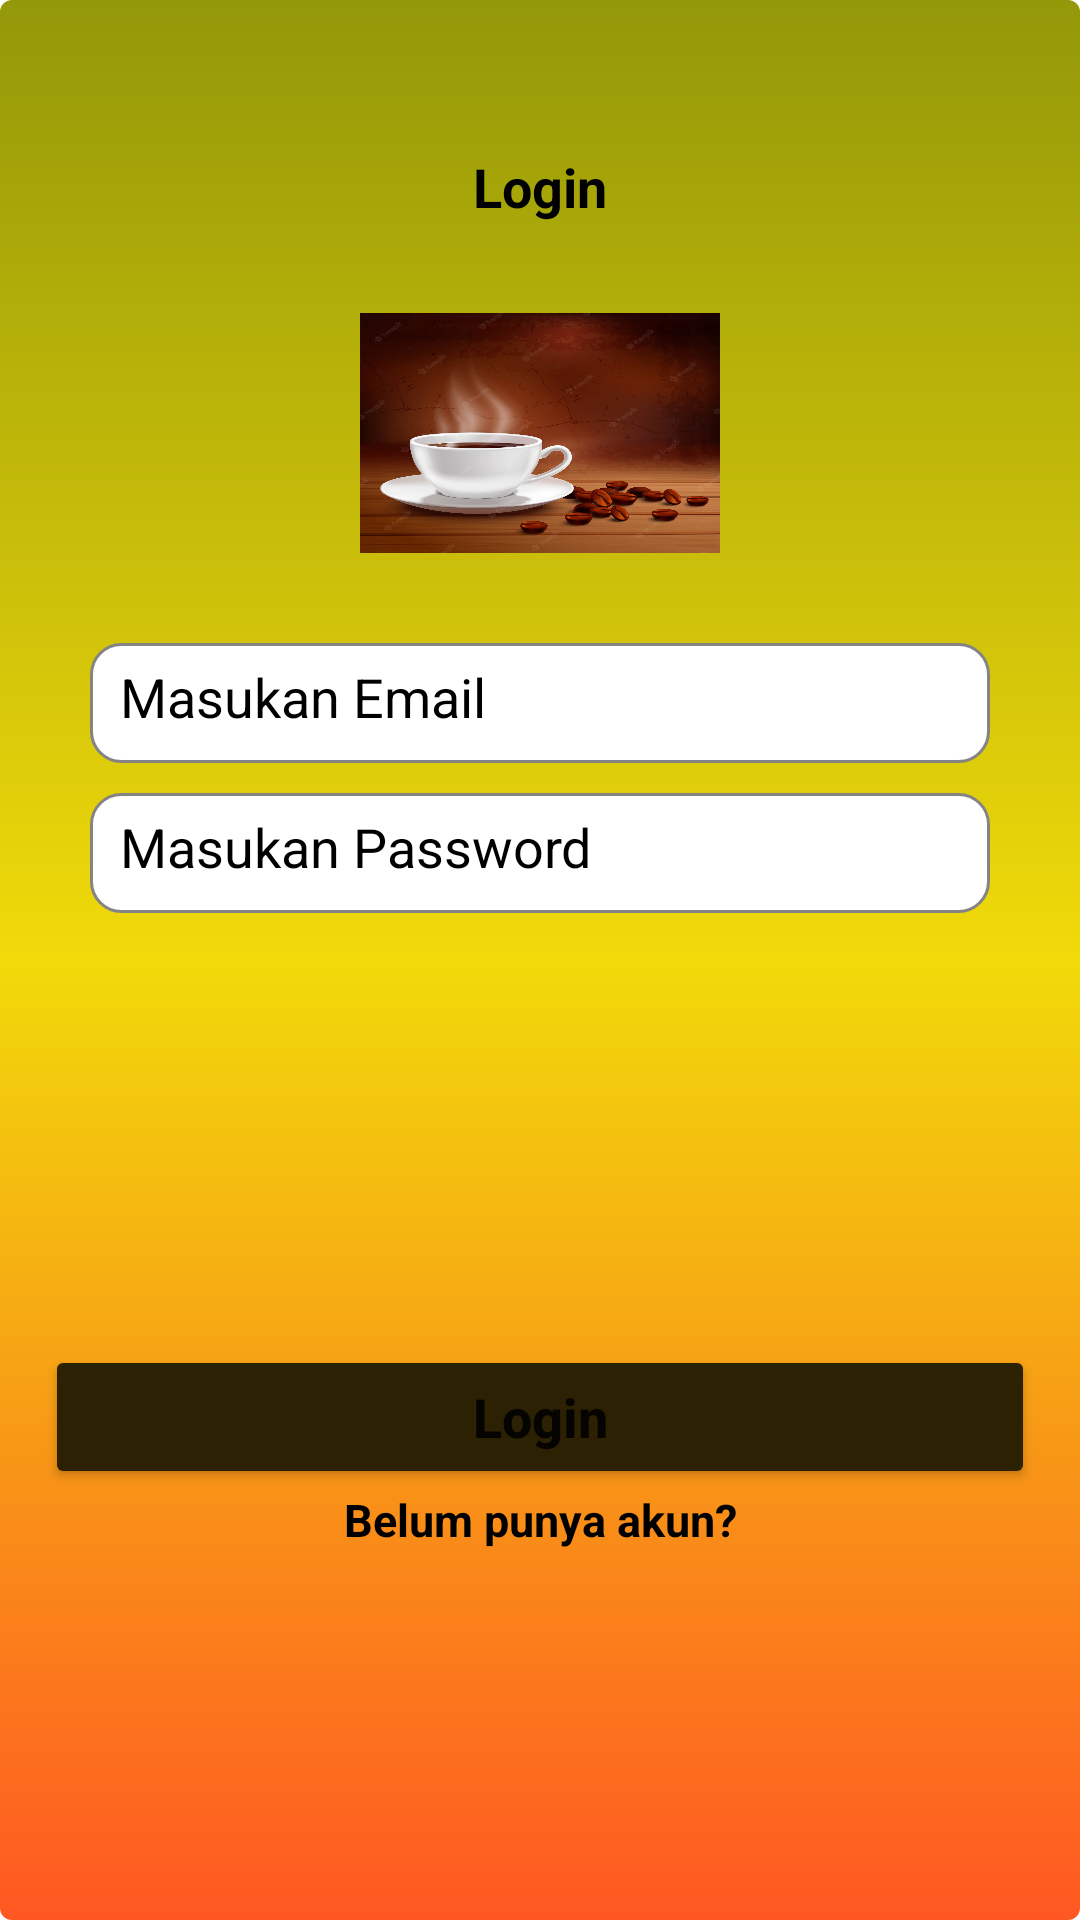

Named icons in this screenshot (1080px×1920px) and their bounding boxes, region(x1, y1, x2, y2):
coffe: region(360, 313, 720, 553)
